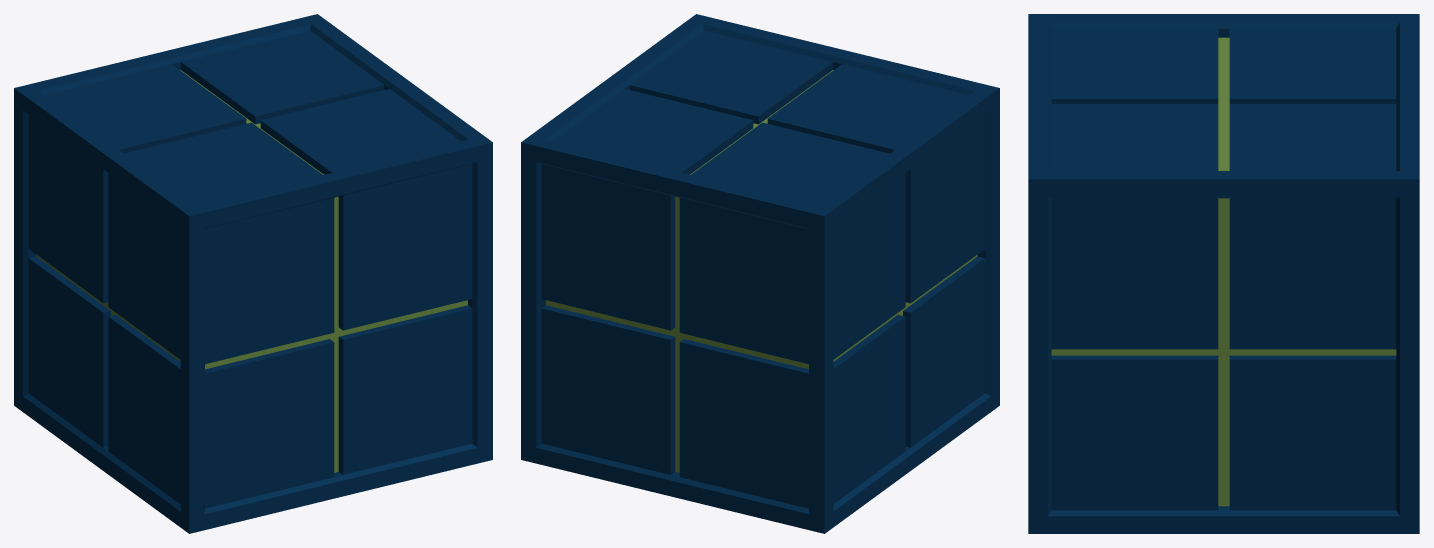
3 views of the same model, side by side, from view 1: azimuth 30°, elevation 25°; view 2: azimuth 150°, elevation 25°; view 3: azimuth 270°, elevation 25° (orthographic). The views are drawn at different scales.
Visible parts, largest first — view 1: Cube; view 2: Cube; view 3: Cube.
Part boxes in pixels (left/top/right/bottom): Cube: left=14, top=14, right=492, bottom=533; Cube: left=521, top=14, right=999, bottom=533; Cube: left=1028, top=14, right=1419, bottom=533.
Bounding box in the file's own units: 100 × 100 × 100.
